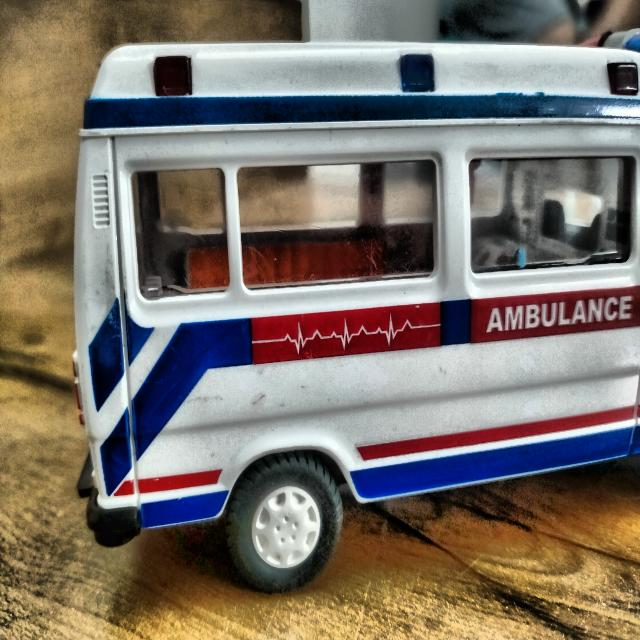Ambulance: (62, 29, 640, 596)
